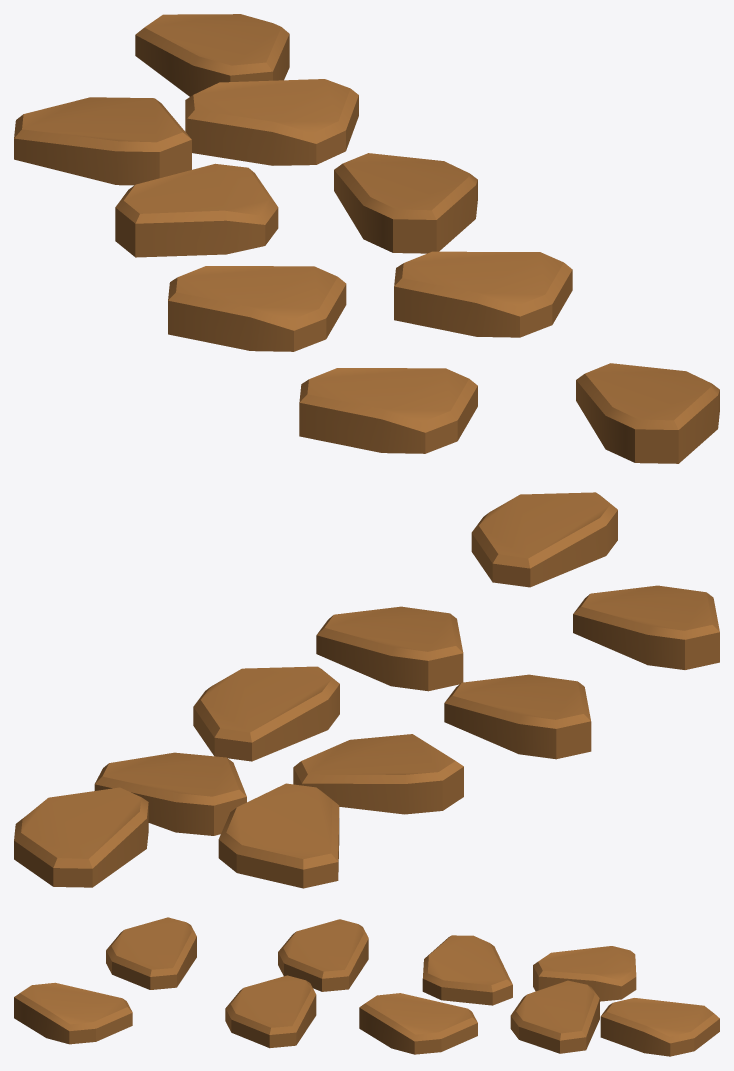
File: 05 Stone.FBX.glb
3 renders of one model, top to bottom at view 1: azimuth 30°, elevation 25°; view 2: azimuth 150°, elevation 25°; view 3: azimuth 270°, elevation 25°, orthographic. The views are drawn at different scales.
Parts seen in each view (by area): view 1: Cylinder098.2; view 2: Cylinder098.2; view 3: Cylinder098.2.
Boxes of the visible parts, bbox=[...] form: Cylinder098.2: bbox=[14, 14, 719, 463]; Cylinder098.2: bbox=[14, 492, 719, 888]; Cylinder098.2: bbox=[14, 917, 719, 1056].
Bounding box in the file's own units: 1076 × 109 × 2752.
